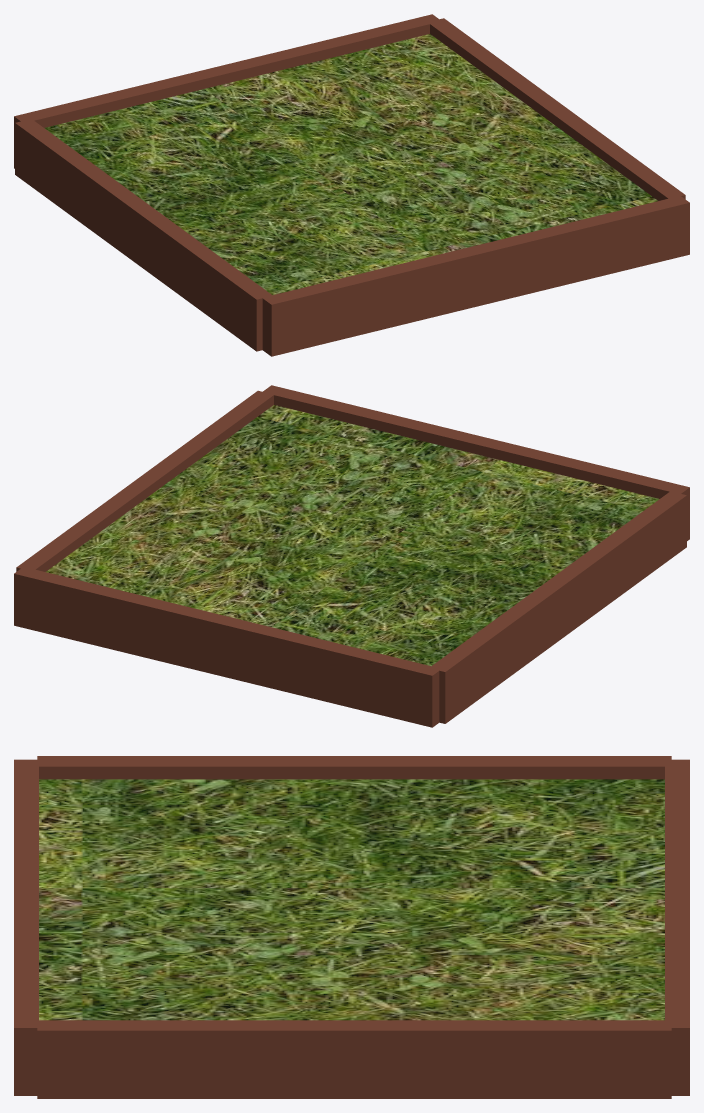
File: Food.fbx
3 views of the same model, one above another, from view 1: azimuth 30°, elevation 25°; view 2: azimuth 150°, elevation 25°; view 3: azimuth 270°, elevation 25° (orthographic). The views are drawn at different scales.
Visible parts, largest first — view 1: conteudo; view 2: conteudo; view 3: conteudo.
Part boxes in pixels (x1,y1,x2,y2): conteudo: (14, 14, 689, 356); conteudo: (14, 385, 689, 727); conteudo: (14, 756, 689, 1098).
Bounding box in the file's own units: 4.1 × 0.4887 × 4.26.
